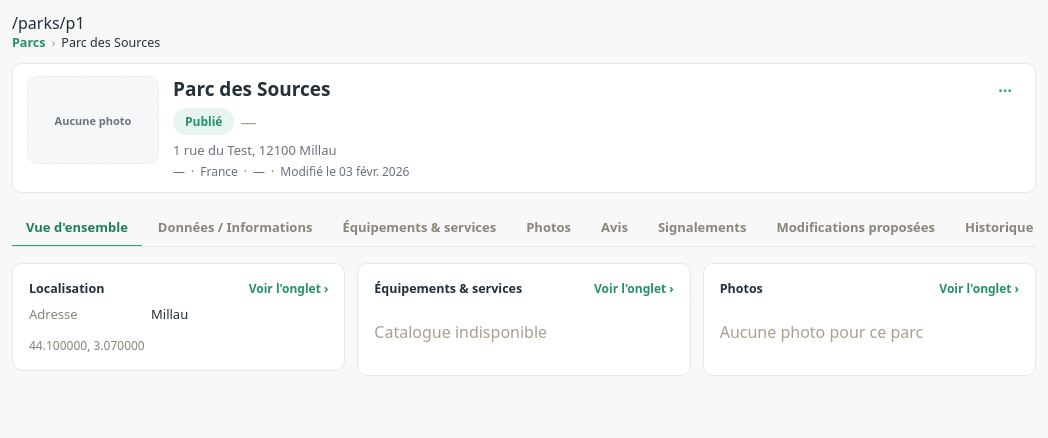
ParkDetail — /parks/:id › Admin-UI-9D : les champs facultatifs absents (âges, description, OSM) sont omis proprement, jamais 'Non renseigné'
The image size is (1048, 438).
Expected: the heading "Parc des Sources" is shown, [173,76,330,102]
Click the tab "Données / Informations" at (235, 228), box [144,209,326,247]
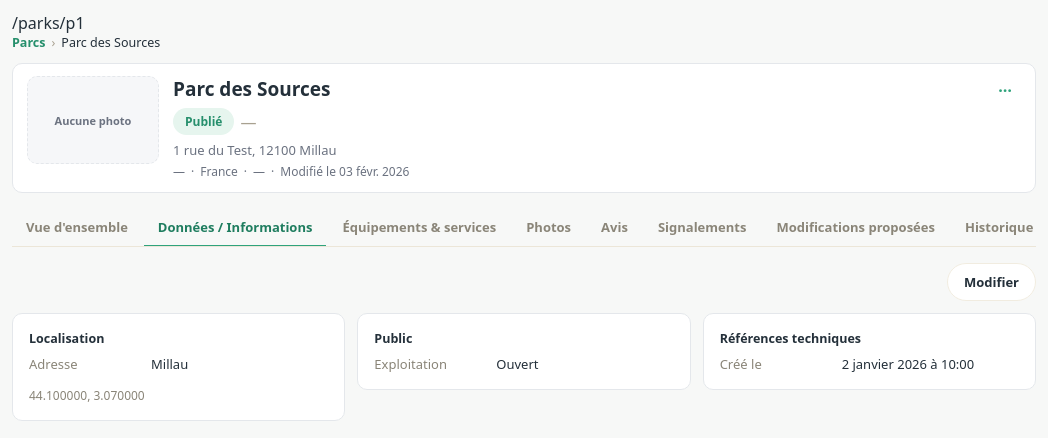
Now the text "Créé le" is shown, box [720,355,762,373]
Now the text "Exploitation" is shown, box [374,355,447,373]
